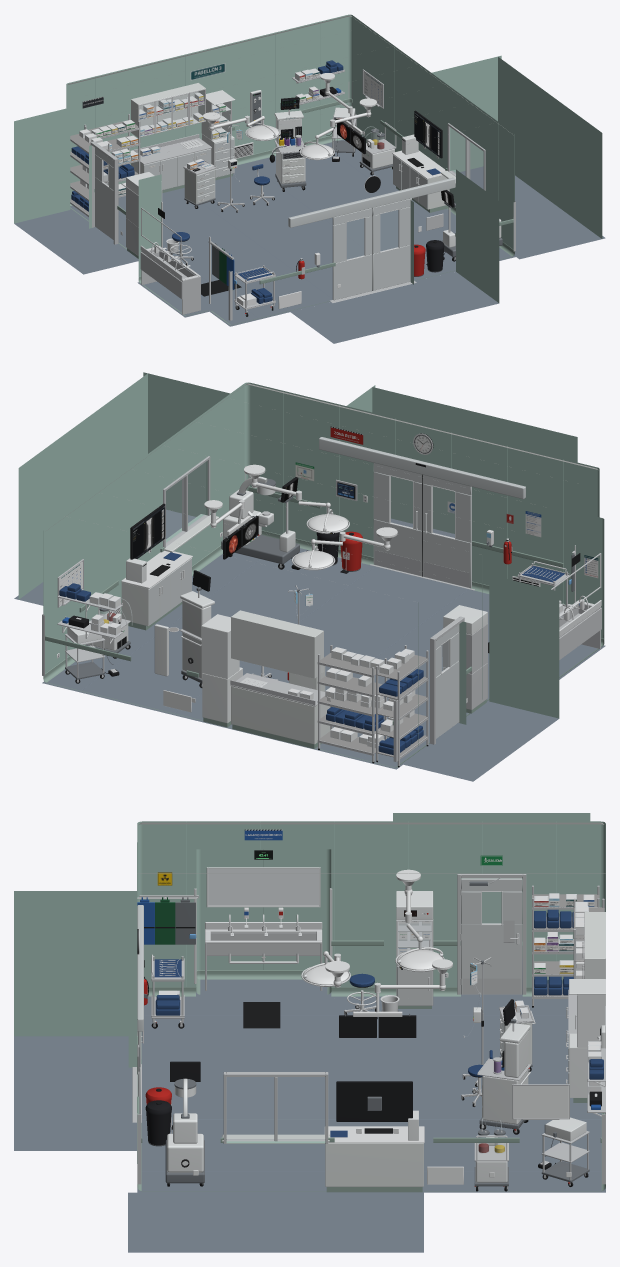
Rendered from sala.glb.
3 views of the same model, one above another, from view 1: azimuth 30°, elevation 25°; view 2: azimuth 150°, elevation 25°; view 3: azimuth 270°, elevation 25° (orthographic). The views are drawn at different scales.
Visible parts, largest first — view 1: pasillo, paredes, piso, puerta-corrediza, armarios-norte, lavamanos, puerta-de-paso, mostrador-pacs, maquina-anestesia, torre-insumos, estantes-noroeste, zocalos (+21 smaller); view 2: paredes, pasillo, piso, puerta-corrediza, armarios-norte, estantes-noroeste, estantes-oeste, mostrador-pacs, torre-insumos, puerta-de-paso, ventana-pasillo, arco-en-c (+19 smaller); view 3: piso, pasillo, paredes, lavamanos, puerta-de-paso, ventana-pasillo, mostrador-pacs, estantes-oeste, zocalos, maquina-anestesia, arco-en-c, gabinete-calentamiento (+22 smaller).
Part boxes in pixels (x1,y1,x2,y2): pasillo: (14, 55, 605, 343); paredes: (66, 14, 514, 284); piso: (70, 139, 515, 326); puerta-corrediza: (288, 177, 455, 303); armarios-norte: (131, 83, 211, 192); lavamanos: (140, 207, 200, 314); puerta-de-paso: (90, 141, 118, 244); mostrador-pacs: (392, 134, 449, 212); maquina-anestesia: (269, 97, 306, 191); torre-insumos: (201, 90, 235, 180); estantes-noroeste: (84, 114, 140, 197); zocalos: (70, 98, 514, 325); paredes: (43, 382, 604, 746); pasillo: (14, 372, 577, 781); piso: (42, 548, 605, 769); puerta-corrediza: (319, 437, 525, 590); armarios-norte: (230, 610, 330, 748); estantes-noroeste: (317, 645, 386, 763); estantes-oeste: (376, 645, 428, 767); mostrador-pacs: (121, 551, 192, 630); torre-insumos: (201, 614, 242, 727); puerta-de-paso: (430, 616, 464, 744); ventana-pasillo: (163, 456, 218, 552); arco-en-c: (221, 476, 300, 569); piso: (137, 979, 605, 1192); pasillo: (14, 813, 590, 1252); paredes: (128, 821, 605, 1163); lavamanos: (205, 829, 322, 990); puerta-de-paso: (457, 874, 526, 994); ventana-pasillo: (222, 1072, 329, 1143); mostrador-pacs: (324, 1110, 424, 1192); estantes-oeste: (532, 885, 599, 1007); zocalos: (137, 940, 605, 1191); maquina-anestesia: (477, 999, 530, 1134); arco-en-c: (165, 1061, 204, 1186); gabinete-calentamiento: (396, 891, 433, 1008).
Bounding box in the file's own units: 11.4 × 3.1 × 9.6.
27 materials, 9 textured.
